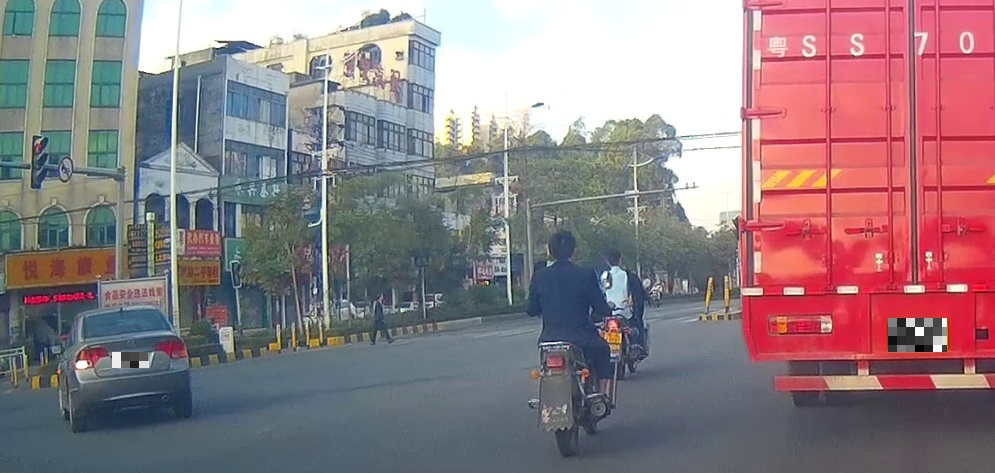L_light: (72, 346, 110, 370)
R_light: (153, 337, 188, 359)
T_light: (112, 311, 132, 317)
day-left: (70, 304, 192, 433)
plate_1: (112, 352, 149, 368)
plate_2: (888, 318, 947, 352)
